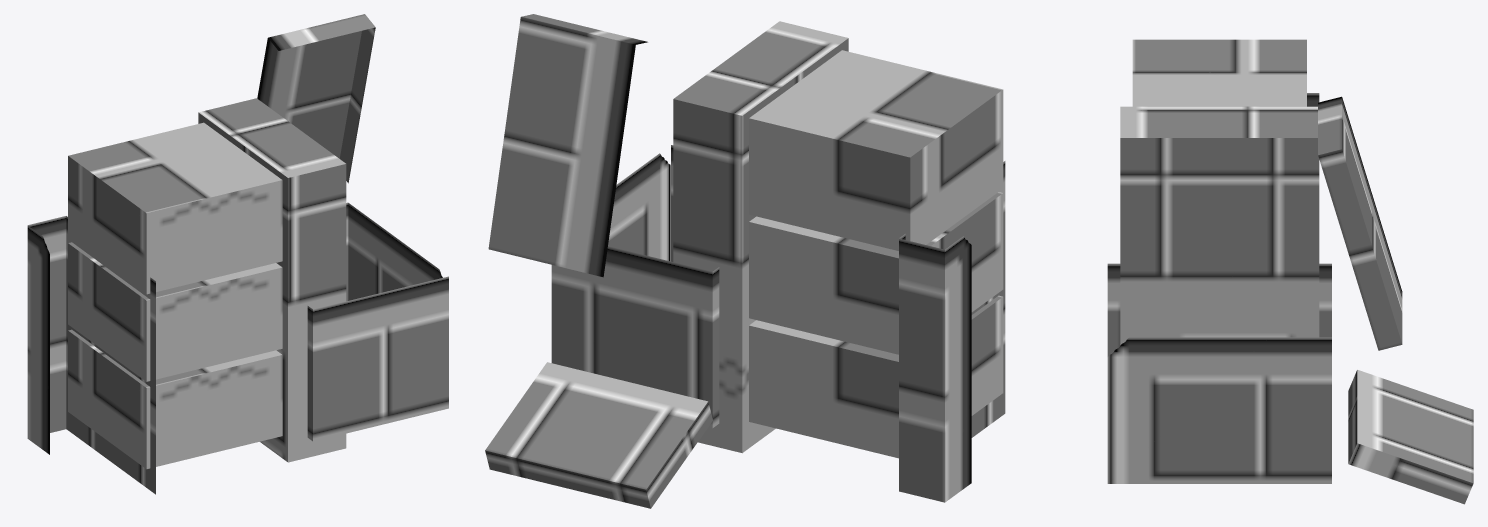
The model's file is dna_sequencer.obj.
The picture shows the model from 3 angles, left to right: view 1: azimuth 30°, elevation 25°; view 2: azimuth 150°, elevation 25°; view 3: azimuth 270°, elevation 25°; orthographic projection. The views are drawn at different scales.
Parts seen in each view (by area): view 1: machine; view 2: machine; view 3: machine.
Boxes of the visible parts, x1=… form: machine: x1=27, y1=14, x2=448, y2=494; machine: x1=485, y1=14, x2=1005, y2=508; machine: x1=1107, y1=39, x2=1473, y2=504.
Size of the model in its own units: 1.12 by 1.07 by 0.9495.
